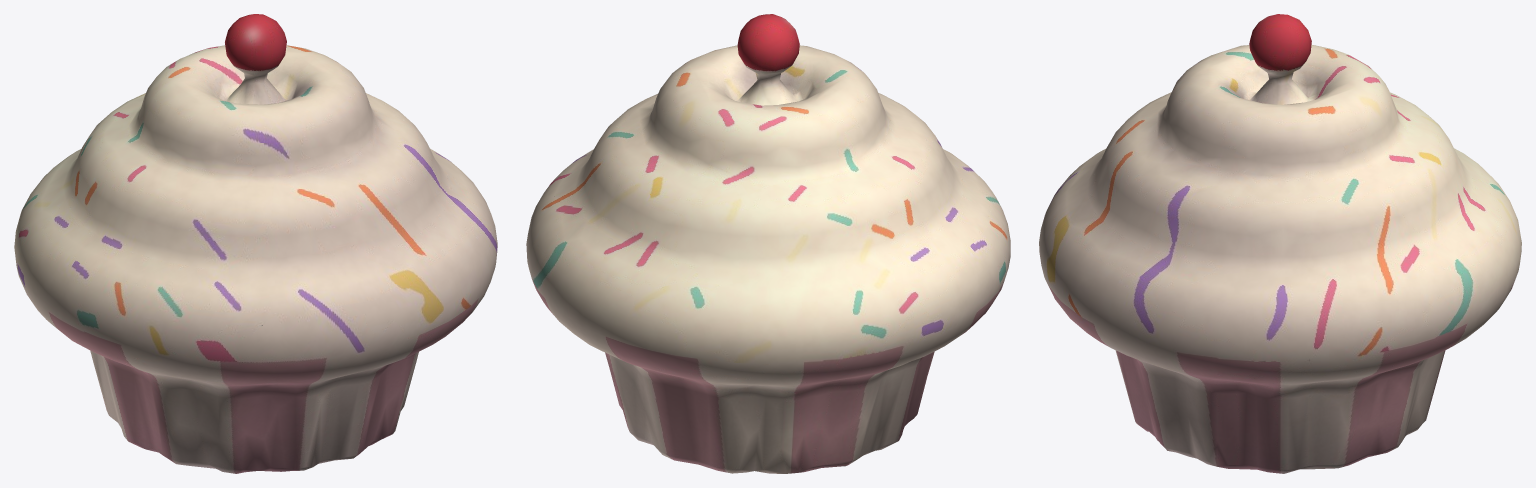
The model's file is decor_cupcake.glb.
3 renders of one model, left to right at view 1: azimuth 30°, elevation 25°; view 2: azimuth 150°, elevation 25°; view 3: azimuth 270°, elevation 25°, orthographic.
Visible parts, largest first — view 1: Cupcake; view 2: Cupcake; view 3: Cupcake.
Boxes of the visible parts, x1,y1,x2,y2 form: Cupcake: (14,14,497,473); Cupcake: (526,14,1010,473); Cupcake: (1039,14,1521,473).
Size of what is drawn, in the model's own units: 1.84 by 1.68 by 1.85.
Materials: 1 (1 with a texture image).
